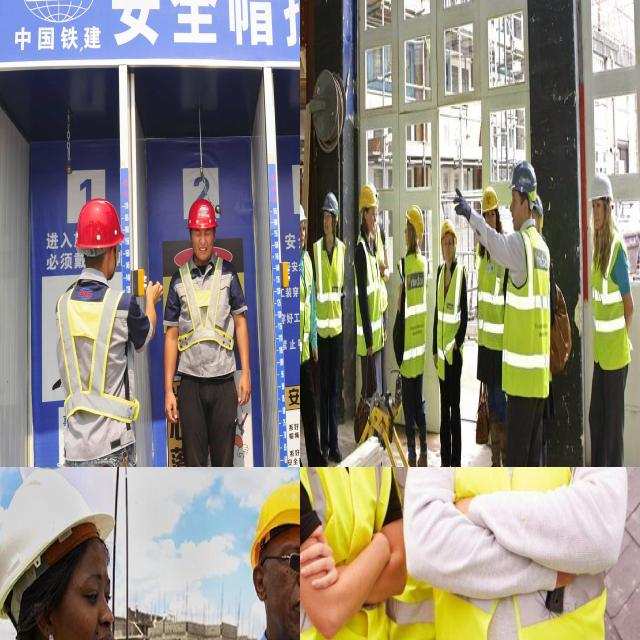No_Ear-Protection: (29, 593, 63, 640), (250, 557, 271, 607)
No_Glasses: (63, 561, 120, 614)
face_nomask: (45, 544, 124, 640), (262, 536, 300, 640), (188, 220, 220, 266), (508, 187, 530, 237), (587, 196, 608, 230), (362, 206, 378, 229), (441, 232, 454, 260), (322, 212, 334, 240), (300, 217, 305, 252)
glasses: (282, 547, 300, 585)
hand_glove: (450, 186, 476, 230)
hand_noglove: (300, 521, 346, 597), (236, 358, 253, 408), (160, 388, 182, 426), (147, 276, 167, 317), (311, 338, 319, 364)
head_helmet: (0, 467, 113, 594), (252, 481, 300, 555), (72, 196, 128, 248), (508, 160, 537, 208), (588, 170, 614, 204), (404, 202, 426, 241), (188, 200, 219, 227), (357, 185, 378, 215), (480, 185, 498, 218), (320, 191, 340, 218), (440, 219, 458, 245), (300, 202, 306, 231)
person: (456, 467, 624, 640), (3, 475, 149, 640), (164, 192, 248, 467), (54, 196, 139, 467), (482, 166, 550, 467), (300, 467, 396, 640), (582, 171, 634, 467), (212, 486, 300, 640), (393, 208, 431, 467), (314, 188, 349, 464), (476, 188, 509, 467), (353, 182, 386, 411), (434, 220, 464, 467), (300, 200, 326, 467)
shoes: (327, 438, 344, 463), (416, 447, 429, 467), (436, 455, 451, 467), (483, 460, 503, 467), (449, 458, 462, 467)
vest: (440, 467, 608, 640), (300, 467, 395, 640), (55, 284, 138, 449), (371, 467, 437, 640), (502, 225, 549, 398), (175, 255, 244, 372), (589, 225, 633, 372), (397, 248, 428, 374), (435, 262, 466, 378), (352, 235, 382, 354), (311, 232, 343, 335), (475, 244, 506, 350), (300, 245, 312, 366)
